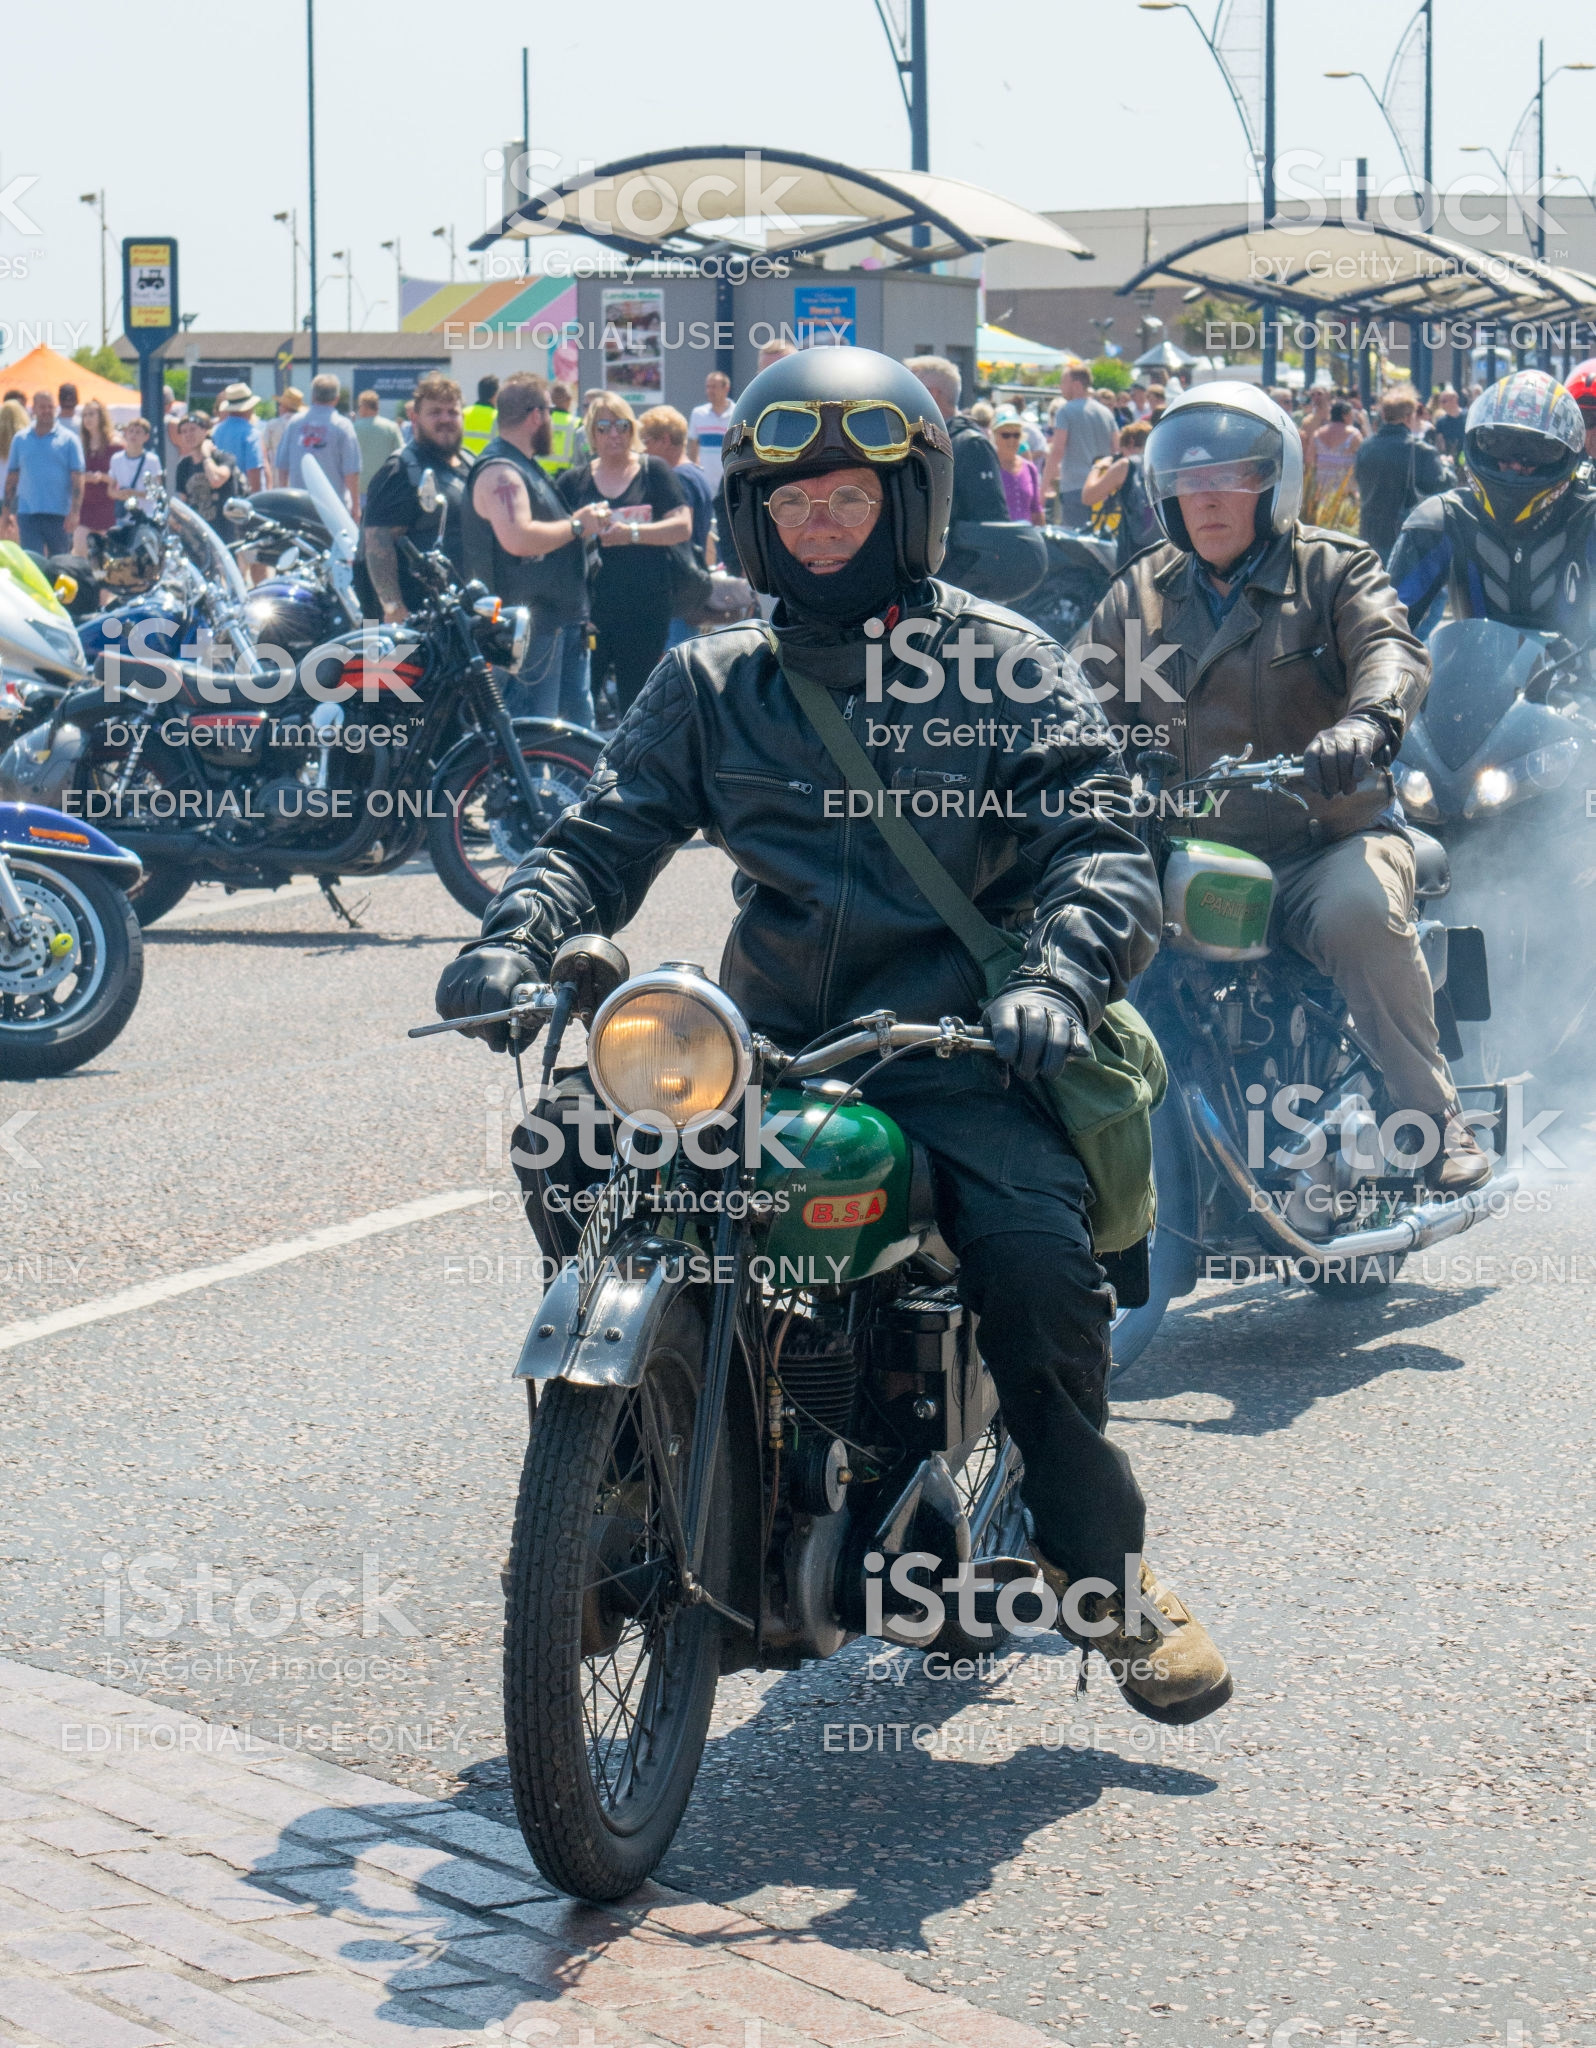helmet: (717, 331, 994, 618), (1139, 397, 1317, 564)
